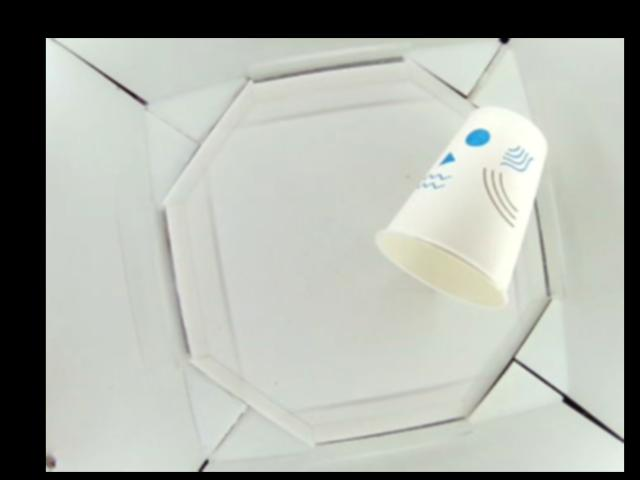Cup: (378, 104, 551, 303)
